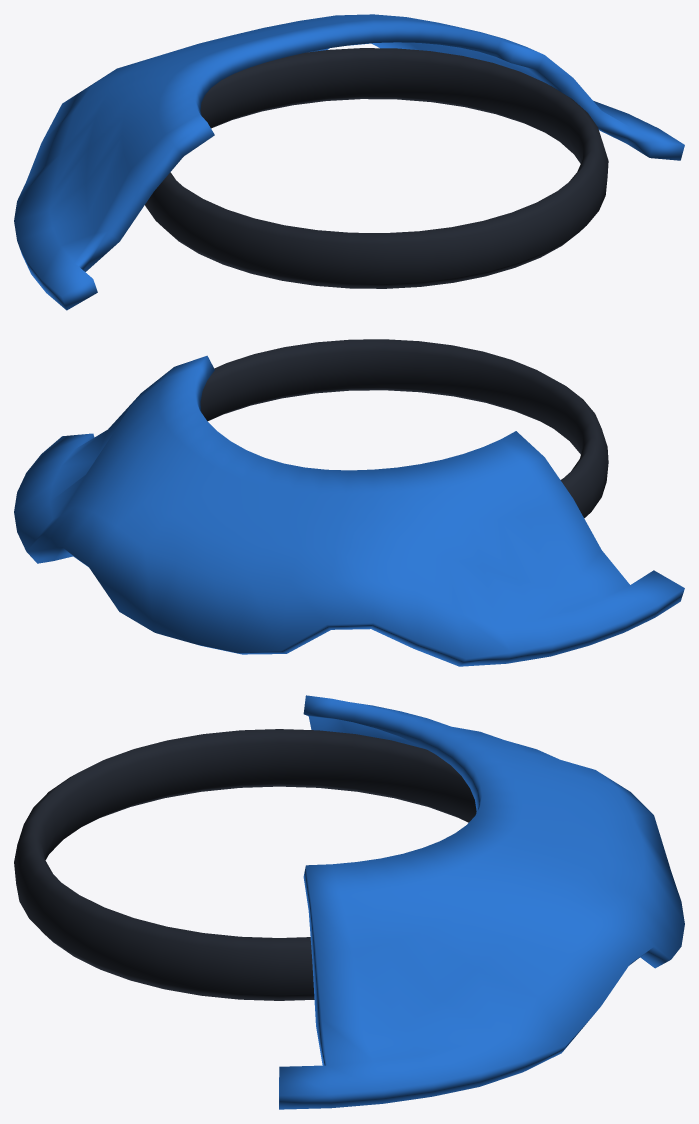
The model's file is visor.glb.
3 views of the same model, one above another, from view 1: azimuth 30°, elevation 25°; view 2: azimuth 150°, elevation 25°; view 3: azimuth 270°, elevation 25° (orthographic). The views are drawn at different scales.
Visible parts, largest first — view 1: Visor; view 2: Visor; view 3: Visor.
Part boxes in pixels (box(x1,y1,x2,y2)): Visor: box(14, 14, 684, 310); Visor: box(14, 339, 684, 666); Visor: box(14, 695, 684, 1109).
Bounding box in the file's own units: 0.34 × 0.0742 × 0.2813.
